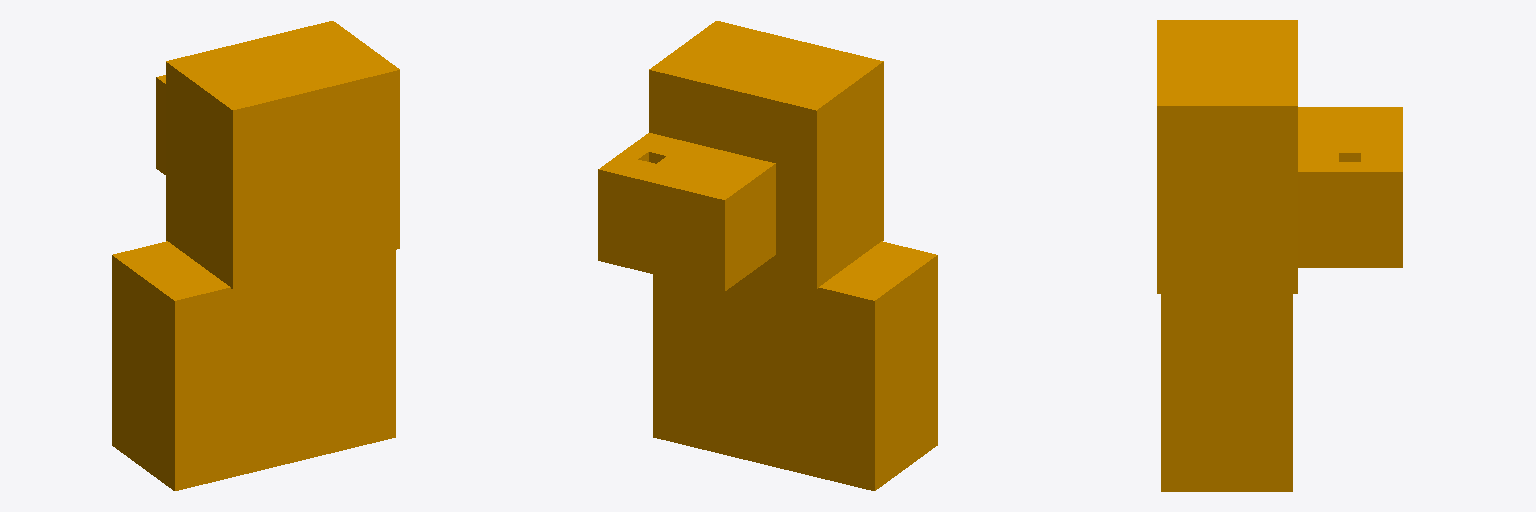
URDF robot description (engineOnShelves.off):
<?xml version="1.0"?>
<robot name="engineOnShelves.off">
	<link name="engineOnShelves.off">
		<inertial>
			<!--origin xyz="0 0 0" rpy="0 0 0" /-->
			<mass value="0.5" />
			<!--inertia ixx="0.000360" ixy="0" ixz="0" iyy="0.0000615" iyz="0" izz="0.00036" /-->
		</inertial>
    		<visual>
	      		<!--origin rpy="0 0 0" xyz="0 0 0"/-->
      			<geometry>
        			<mesh filename="engineOnShelves.off.obj"/>
      			</geometry>
         	</visual>
    		<collision>
      			<!--origin rpy="0 0 0" xyz="0 0 0"/-->
      			<geometry>
        			<mesh filename="engineOnShelves.off.obj"/>
      			</geometry>
    		</collision>
	</link>
</robot>

--- Facts derived from the render (not from the file) ---
The picture shows the robot from 3 angles, left to right: view 1: azimuth 30°, elevation 25°; view 2: azimuth 150°, elevation 25°; view 3: azimuth 270°, elevation 25°; orthographic projection.
Robot: engineOnShelves.off — 1 links, 0 joints (none); root link engineOnShelves.off; default pose: every joint at zero.
Links seen in each view (by area): view 1: engineOnShelves.off; view 2: engineOnShelves.off; view 3: engineOnShelves.off.
Link boxes in pixels (x1,y1,x2,y2): engineOnShelves.off: (112,21,399,490); engineOnShelves.off: (598,21,937,490); engineOnShelves.off: (1157,20,1402,491).
Bounding box of the posed robot: 0.615 × 0.56 × 0.968 m (x, y, z).
1 mesh visuals loaded from 1 distinct referenced files (1 OBJ).